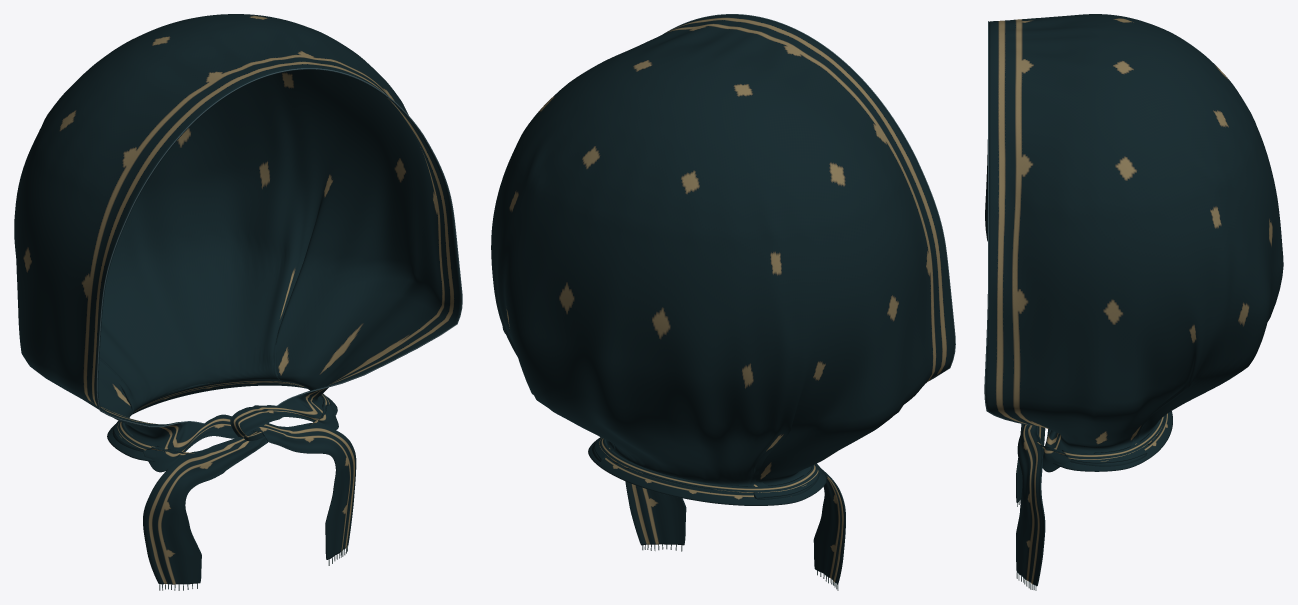
The model's file is Masculine-tshirt-pashmina243-headgear.glb.
3 renders of one model, left to right at view 1: azimuth 30°, elevation 25°; view 2: azimuth 150°, elevation 25°; view 3: azimuth 270°, elevation 25°, orthographic. The views are drawn at different scales.
Visible parts, largest first — view 1: 226 headgear / Headwear / continuous woven pashmina239, 226 headgear / Headwear / face edge239; view 2: 226 headgear / Headwear / continuous woven pashmina239, 226 headgear / Headwear / face edge239; view 3: 226 headgear / Headwear / continuous woven pashmina239, 226 headgear / Headwear / face edge239.
Part boxes in pixels (x1,y1,x2,y2): 226 headgear / Headwear / continuous woven pashmina239: (14,14,461,584); 226 headgear / Headwear / face edge239: (96,68,462,427); 226 headgear / Headwear / continuous woven pashmina239: (491,14,954,584); 226 headgear / Headwear / face edge239: (664,14,955,381); 226 headgear / Headwear / continuous woven pashmina239: (985,14,1283,586); 226 headgear / Headwear / face edge239: (984,21,1032,425).
Bounding box in the file's own units: 1.03 × 1.35 × 0.7127.
Materials: 3 (1 with a texture image).
